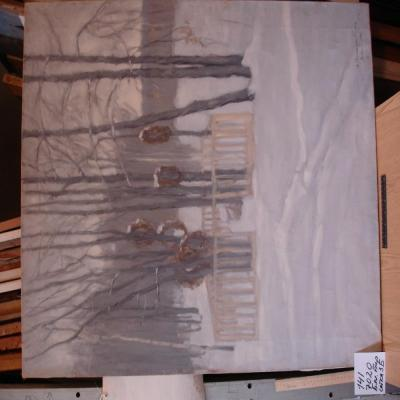painting: (24, 0, 370, 369)
